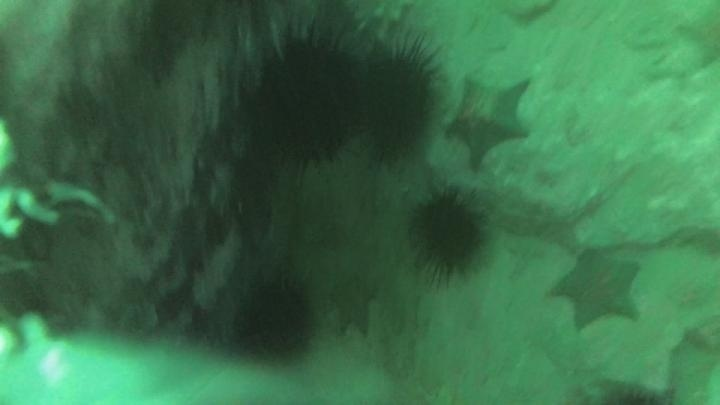echinus: (247, 30, 367, 168), (349, 38, 443, 158), (230, 273, 319, 364), (406, 188, 489, 279)
starfish: (444, 71, 536, 170), (547, 248, 646, 333), (327, 271, 381, 337)
